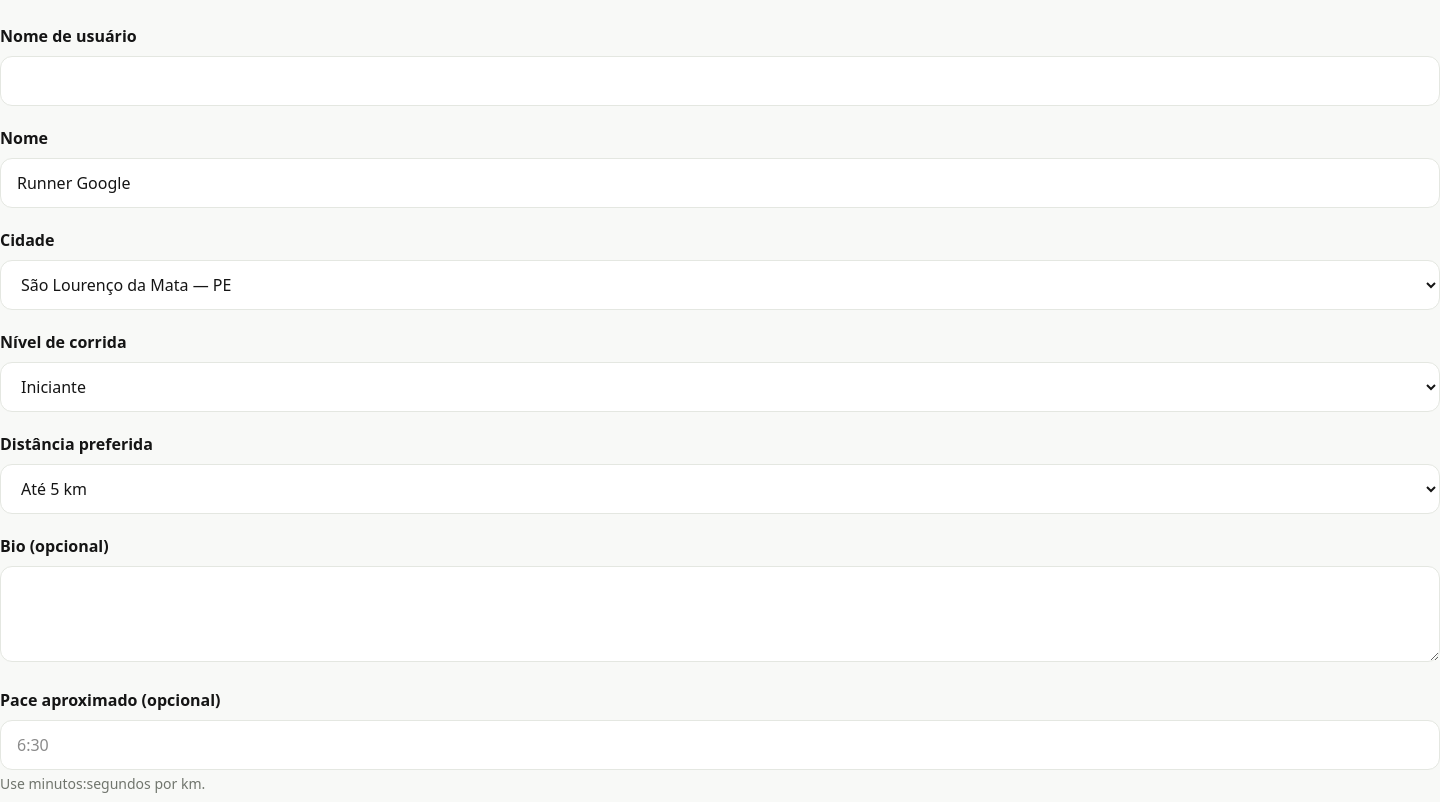
Test: OnboardingForm › places validation errors next to invalid fields
Type "ab" into the field labelled "Nome de usuário" at [720, 81], box [0,56,1439,106]
(page scrolled)
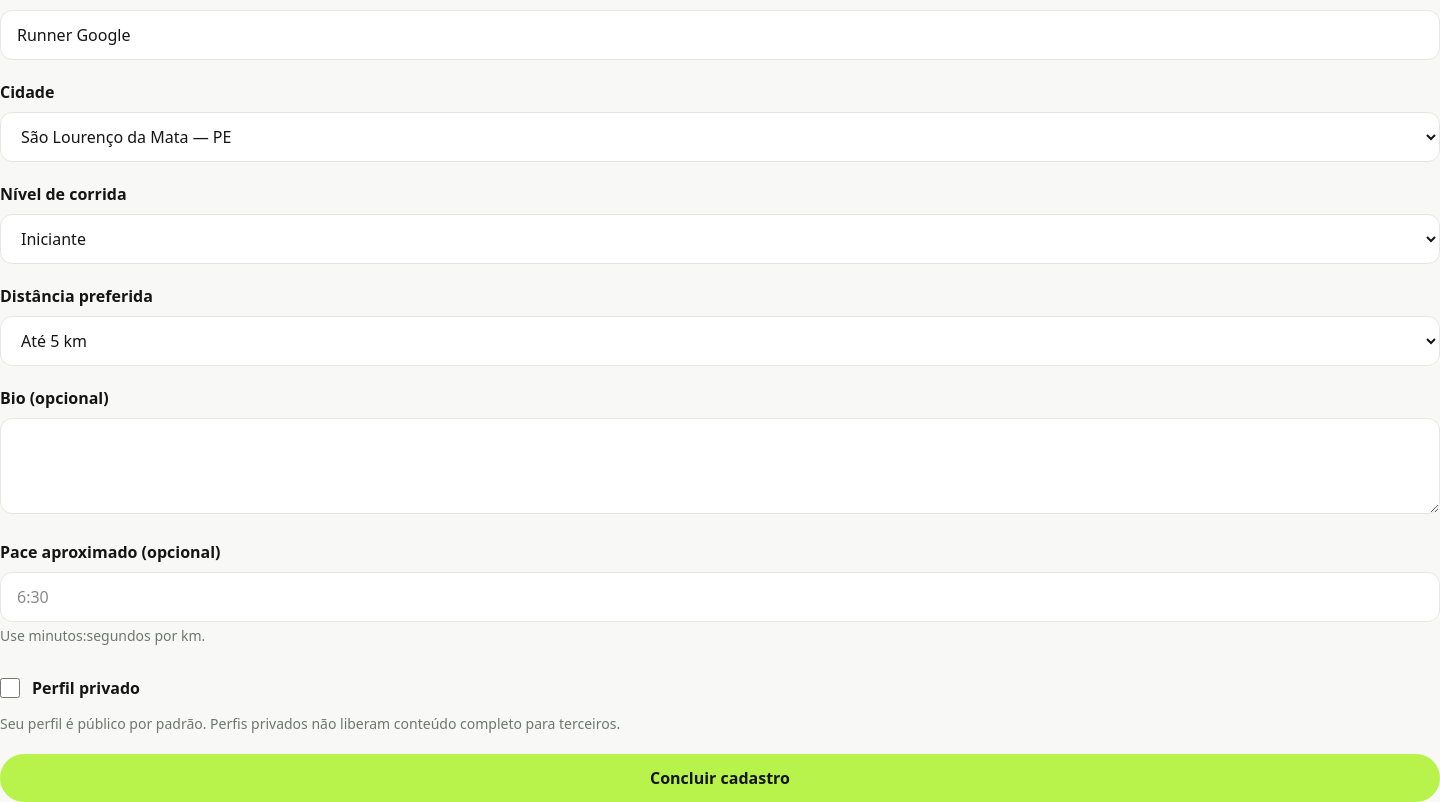
Click the button "Concluir cadastro" at [720, 778], box [0,754,1439,801]
(page scrolled)
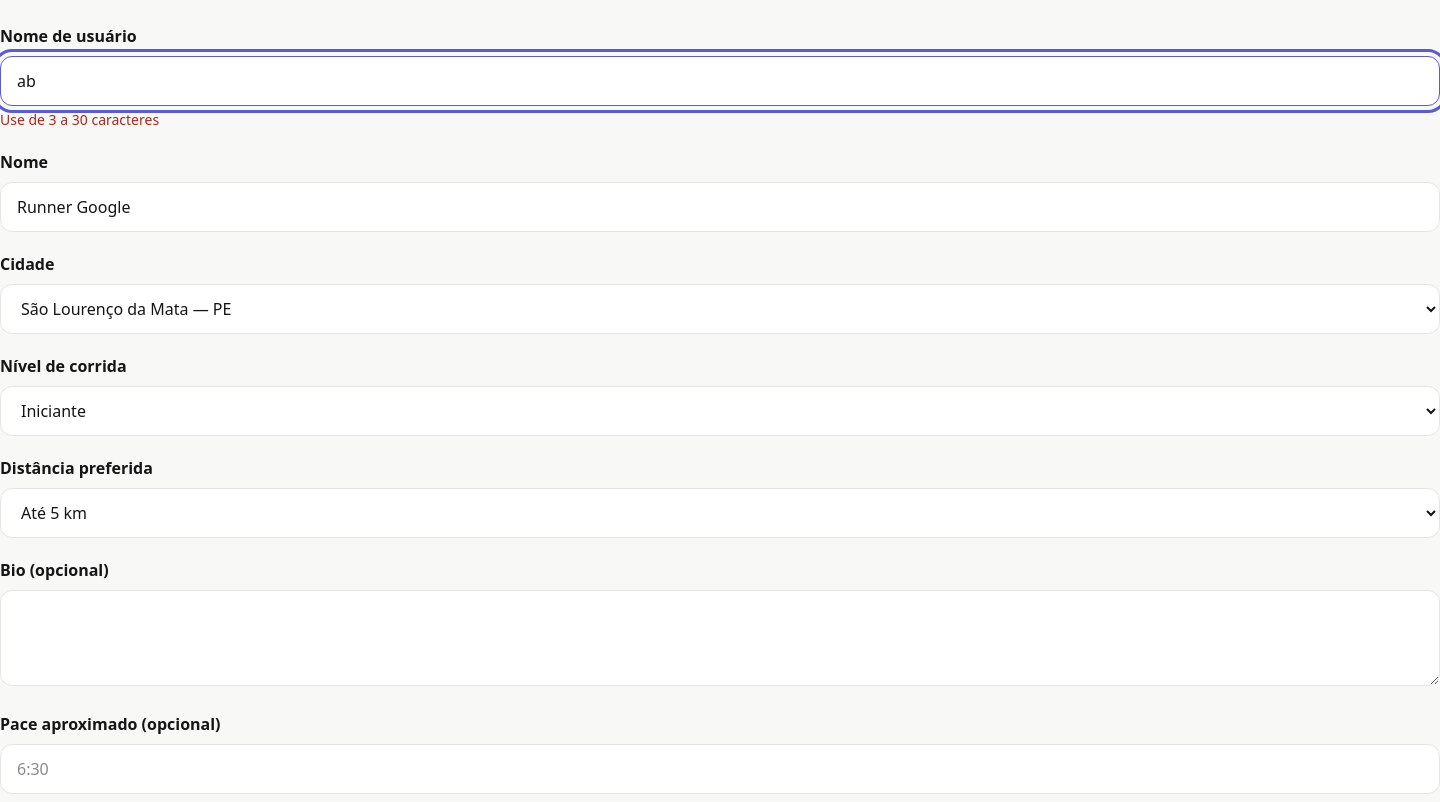
Expected: the text "Use de 3 a 30 caracteres" is shown, [0,110,159,129]
